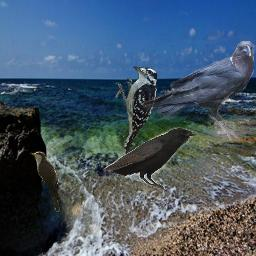Crow: (142, 41, 254, 141), (103, 127, 198, 190)
Cuckoo: (30, 151, 60, 213)
Woodpecker: (115, 65, 163, 155)
